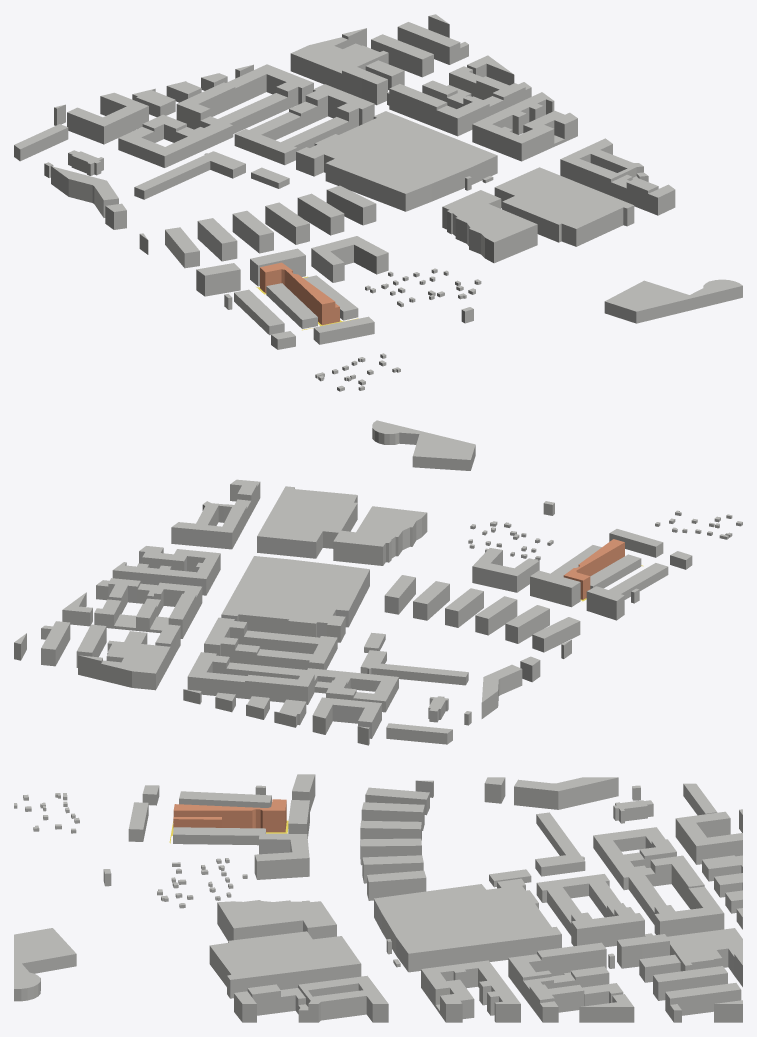
3 views of the same model, one above another, from view 1: azimuth 30°, elevation 25°; view 2: azimuth 150°, elevation 25°; view 3: azimuth 270°, elevation 25° (orthographic). The views are drawn at different scales.
Visible parts, largest first — view 1: context_0000, context_0001, context_0002, context_0003, context_0004, context_0006, context_0007, context_0005, V2_00_tall_L_wing, context_0011, context_0012, context_0014 (+37 smaller); view 2: context_0000, context_0001, context_0002, context_0003, context_0004, context_0006, context_0007, context_0005, context_0012, context_0021, V2_00_tall_L_wing, context_0011 (+28 smaller); view 3: context_0000, context_0001, context_0002, context_0003, context_0011, context_0006, context_0004, context_0007, V2_00_tall_L_wing, context_0005, context_0015, context_0013 (+50 smaller).
Boxes of the visible parts, left/top/right/bottom form: context_0000: left=296, top=111, right=497, bottom=211; context_0001: left=494, top=167, right=634, bottom=246; context_0002: left=442, top=190, right=537, bottom=263; context_0003: left=604, top=279, right=742, bottom=323; context_0004: left=290, top=37, right=388, bottom=90; context_0006: left=67, top=92, right=148, bottom=144; context_0007: left=311, top=236, right=388, bottom=282; context_0005: left=134, top=151, right=245, bottom=199; V2_00_tall_L_wing: left=260, top=262, right=335, bottom=325; context_0011: left=51, top=166, right=118, bottom=217; context_0012: left=176, top=82, right=235, bottom=129; context_0014: left=371, top=34, right=433, bottom=77; context_0000: left=221, top=556, right=369, bottom=642; context_0001: left=257, top=486, right=357, bottom=558; context_0002: left=333, top=506, right=427, bottom=565; context_0003: left=372, top=420, right=475, bottom=470; context_0004: left=101, top=640, right=170, bottom=690; context_0006: left=312, top=697, right=381, bottom=738; context_0007: left=472, top=548, right=539, bottom=592; context_0005: left=360, top=650, right=468, bottom=685; context_0012: left=245, top=673, right=314, bottom=704; context_0021: left=530, top=570, right=580, bottom=607; V2_00_tall_L_wing: left=563, top=539, right=624, bottom=599; context_0011: left=481, top=664, right=522, bottom=718; context_0000: left=374, top=878, right=561, bottom=972; context_0001: left=209, top=931, right=361, bottom=998; context_0002: left=217, top=900, right=336, bottom=940; context_0003: left=14, top=928, right=76, bottom=1001; context_0011: left=514, top=777, right=618, bottom=809; context_0006: left=675, top=811, right=742, bottom=864; context_0004: left=667, top=928, right=742, bottom=975; context_0007: left=254, top=833, right=309, bottom=879; V2_00_tall_L_wing: left=173, top=799, right=286, bottom=832; context_0005: left=535, top=812, right=585, bottom=876; context_0015: left=665, top=983, right=741, bottom=1016; context_0013: left=429, top=978, right=474, bottom=1022.
Bounding box in the file's own units: 467 × 21 × 635.
